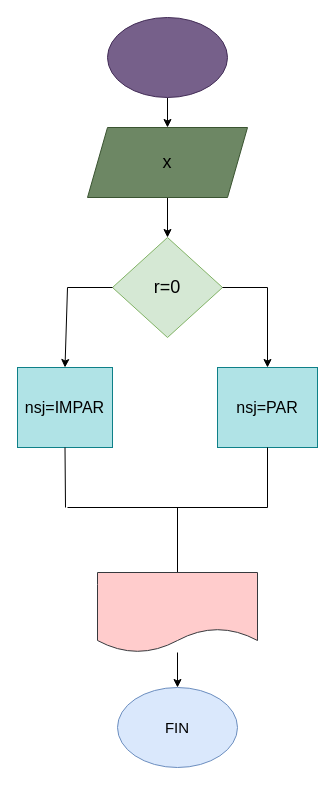
The diagram is 335 pixels wide and 785 high, and some of its shapes have lost their labels. Here are the shapes that lost their labels. From the top down, the centre of each, then its label:
At pixel 167 57: "INICIO".
At pixel 177 612: "x es msj".
